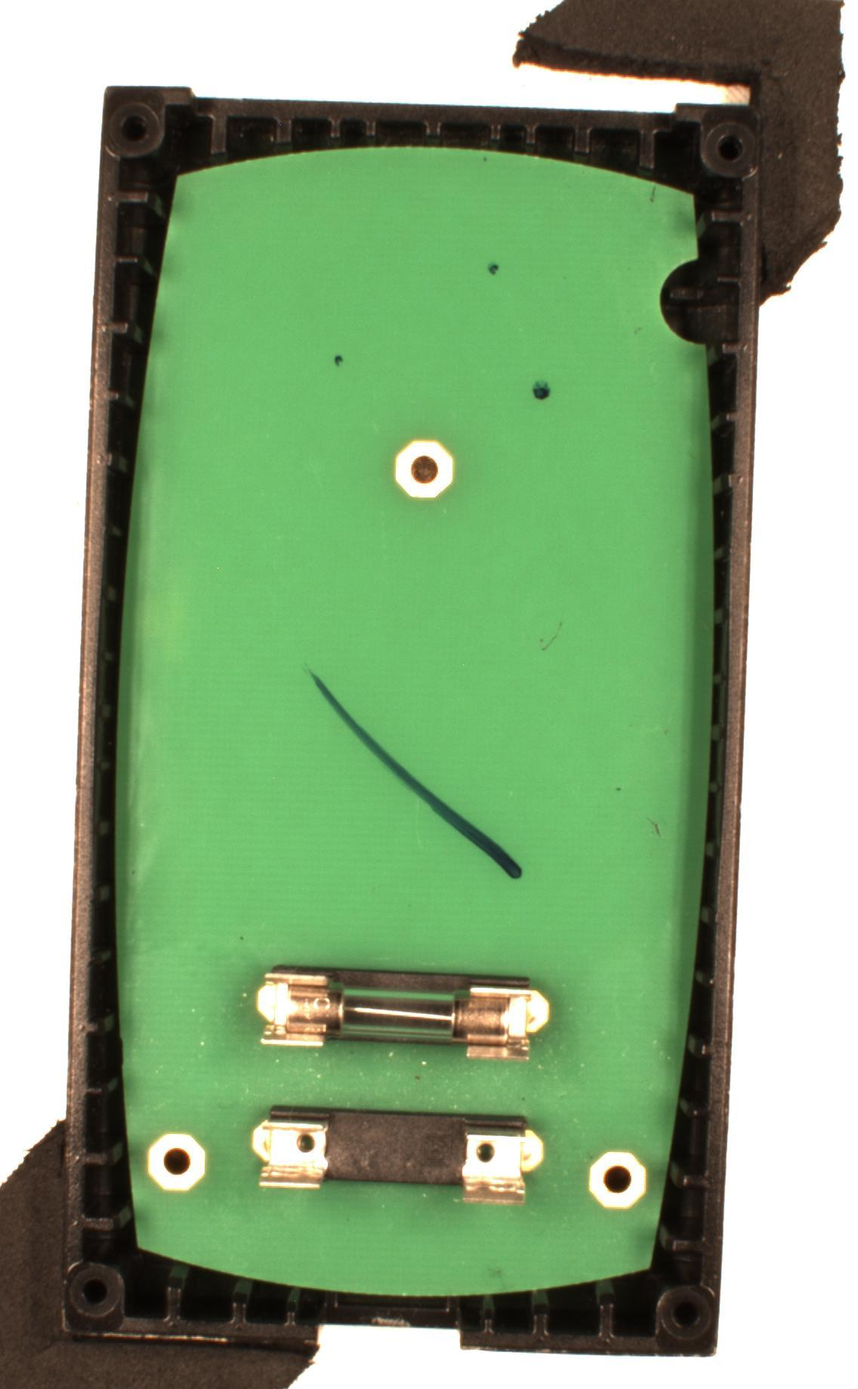Linijsko Ostecene: (301, 661, 530, 887)
Nepostojanje osiguraca: (249, 1099, 549, 1209)
Tockasto Ostecenje: (527, 378, 558, 404), (484, 260, 503, 279), (332, 350, 346, 369)
